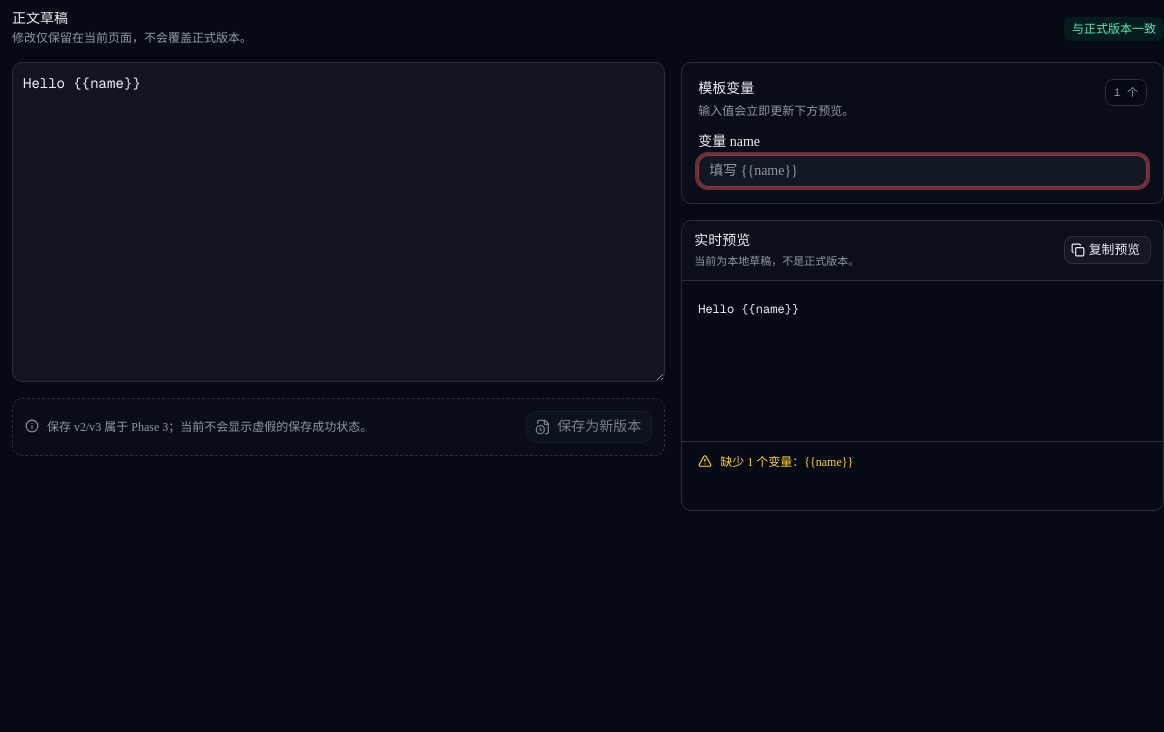
Scenario: PromptDraftEditor › copies the current rendered preview
The width and height of the screenshot is (1164, 732).
Type "PromptLab" into the field labelled "变量 name". click: (923, 171)
box: [698,155,1147,187]
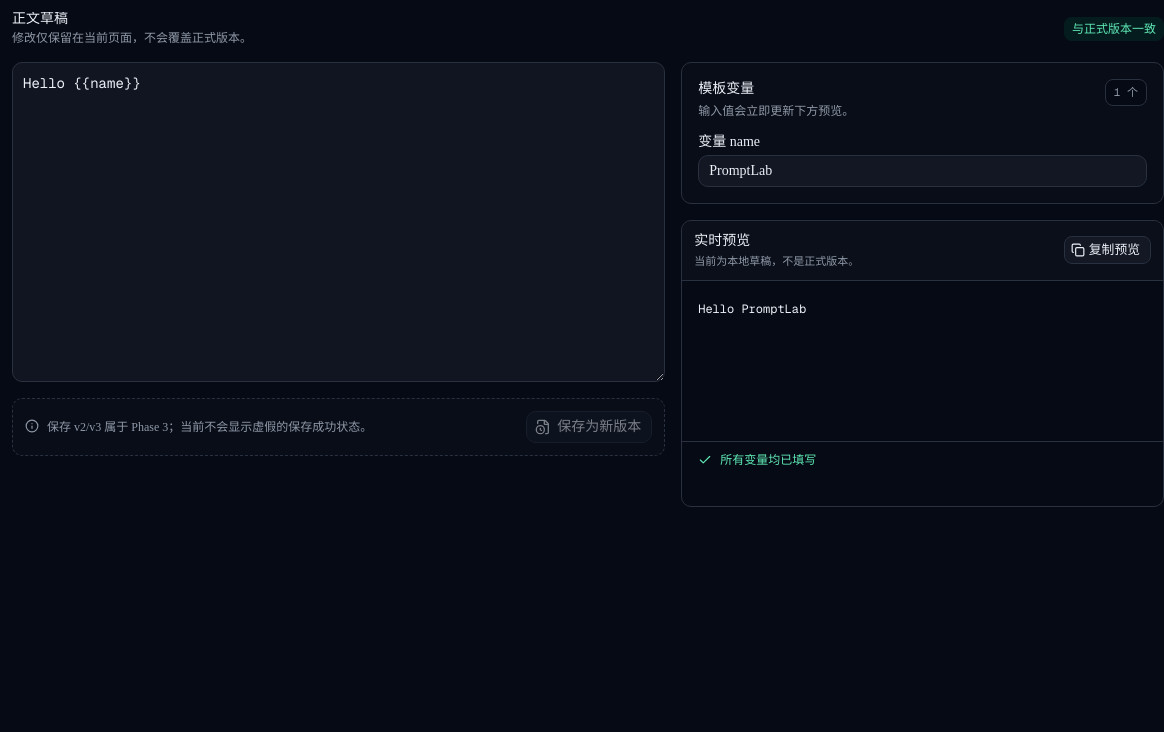
Click the button "复制预览". click: (1107, 250)
box: [1064,236,1151,264]
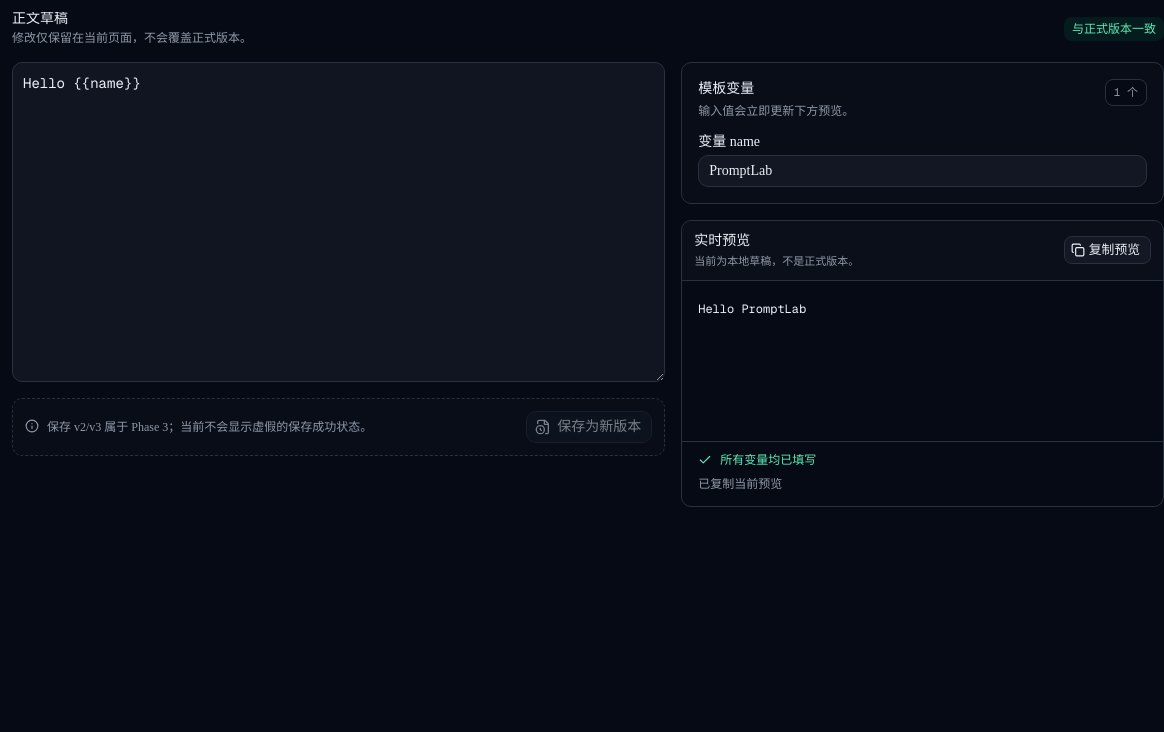
Expected: the text "已复制当前预览" is shown, [698,476,782,490]
